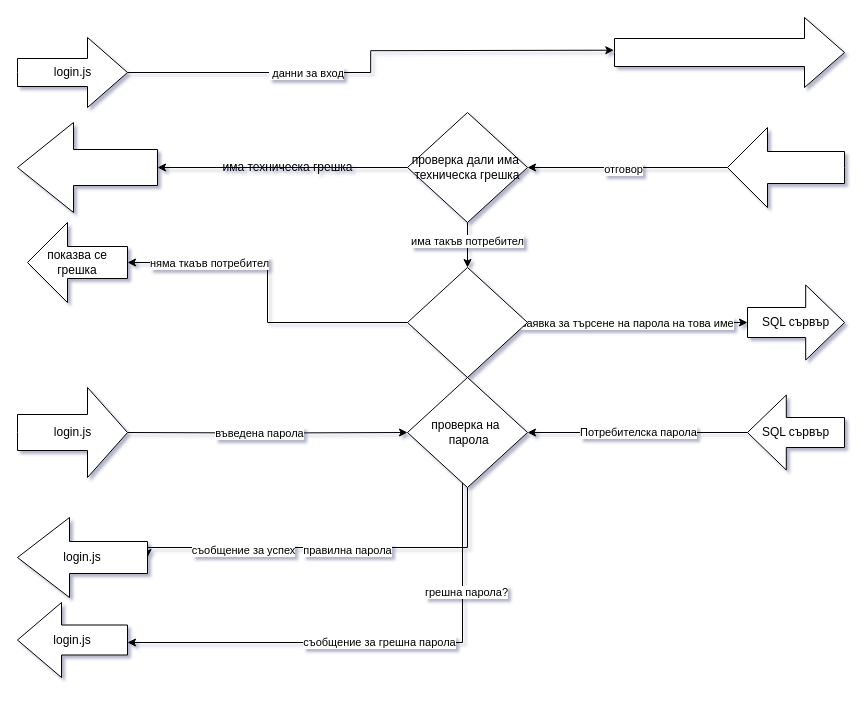
Image size: 868x701. Some labels were removed from this diagram. Each missing label, with the box of its shape:
SQL: (726, 126, 844, 208)
Заявка към SQL сървър за проверка на потребителско име: (614, 16, 844, 88)
проверка на наличие на име: (406, 266, 528, 378)
съобщение за грешка към терминала: (16, 122, 158, 212)
